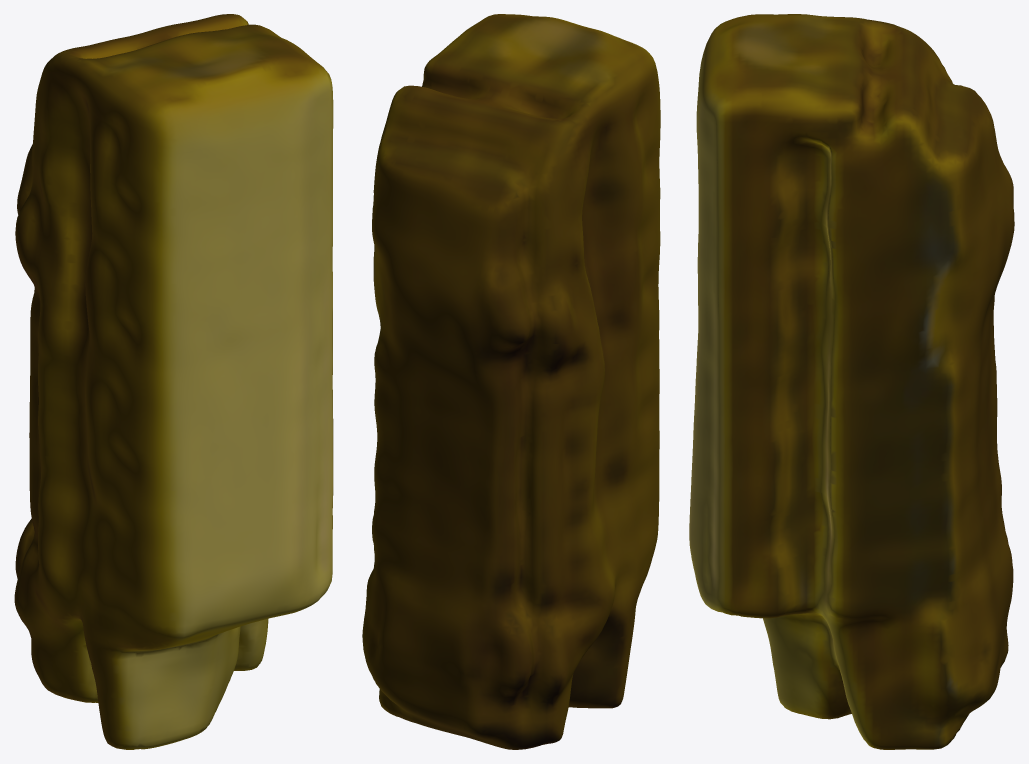
The model's file is school_bus1.glb.
3 views of the same model, side by side, from view 1: azimuth 30°, elevation 25°; view 2: azimuth 150°, elevation 25°; view 3: azimuth 270°, elevation 25° (orthographic). The views are drawn at different scales.
Bounding box in the file's own units: 0.3468 × 0.9997 × 0.4379.
